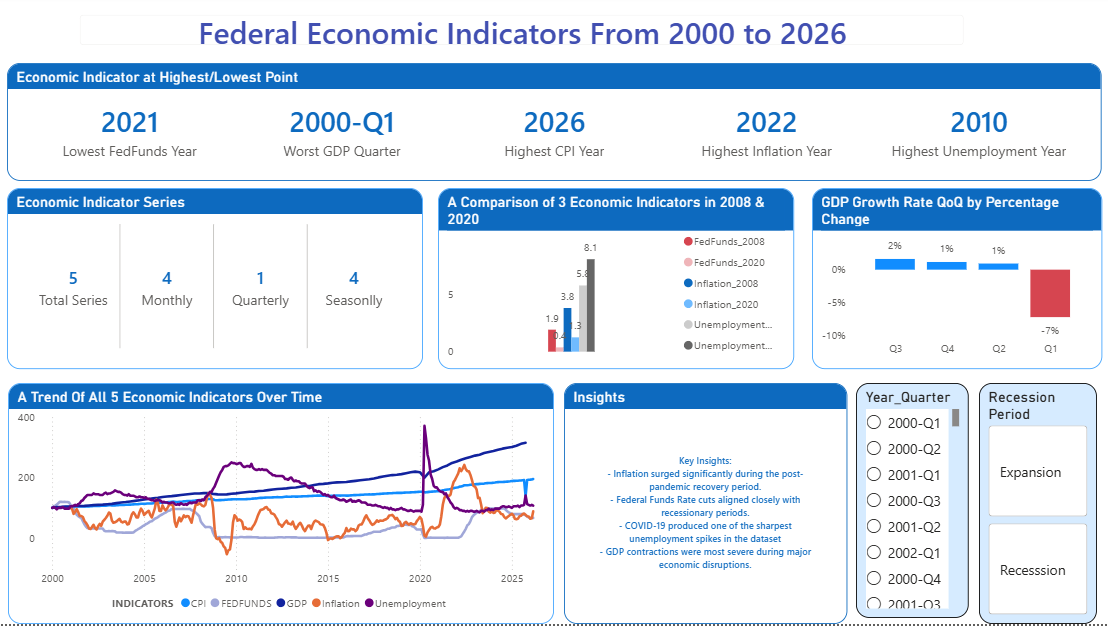

What the dashboard file says about the page in this screenshot:
{"tool":"powerbi","page":{"name":"Deep Dive","canvas":[1280,720],"ordinal":1},"visuals":[{"type":"cardVisual","title":"Economic Indicator at Highest/Lowest  Point","fields":{"Data":["Measure_Table.m_Lowest FedFunds Year","Measure_Table.m_Worst GDP Quarter","Measure_Table.m_Highest CPI Year","Measure_Table.m_Highest Inflation Year","Measure_Table.m_Highest Unemployment Year"]},"box":[9.2,72.7,1263.5,136.2],"z":0},{"type":"cardVisual","title":"Economic Indicator Series","fields":{"Data":["Measure_Table.m_Total Series","Measure_Table.m_Monthly Series","Measure_Table.m_Quarterly Series","Measure_Table.m_Seasonally Adjusted Count"]},"box":[9.2,216.9,480,208.8],"z":1000},{"type":"clusteredColumnChart","title":"A Comparison of 3 Economic Indicators in 2008 & 2020","fields":{"Y":["Measure_Table.m_Average FedFunds_2008","Measure_Table.m_Average FedFunds_2020","Measure_Table.m_Average Inflation_2008","Measure_Table.m_Average Inflation_2020","Measure_Table.m_Average Unemployment_2008","Measure_Table.m_Average Unemployment_2020"]},"box":[506.5,216.9,410.8,208.8],"z":2000},{"type":"cardVisual","fields":{"Data":["Measure_Table.dt_Main"]},"box":[76.1,0,1054.1,69.6],"z":3000},{"type":"lineClusteredColumnComboChart","title":"GDP Growth Rate QoQ by Percentage Change","fields":{"Category":["Calendar.Quarters"],"Y":["Measure_Table.m_GDP Growth Rate QoQ"]},"box":[938.1,216.9,334.6,208.8],"z":4000},{"type":"advancedSlicerVisual","fields":{"Values":["FACT_ECONOMY.Recession Period"]},"box":[1130.8,441.9,136.2,278.1],"z":5000},{"type":"lineChart","title":"A Trend Of All 5 Economic Indicators Over Time","fields":{"Category":["FACT_ECONOMY.Date"],"Series":["FACT_ECONOMY.INDICATORS"],"Y":["Measure_Table.m_Indexed Value_2"]},"box":[10.4,441.9,630,278.1],"z":6000},{"type":"listSlicer","title":"Year_Quarter","fields":{"Values":["Calendar.Year_Quarter"]},"box":[988.8,441.9,130.4,271.2],"z":7000},{"type":"cardVisual","title":"Insights","fields":{"Data":["Measure_Table.m_Insights"]},"box":[651.9,441.9,326.5,278.1],"z":8001}]}

Visuals, with their boxes in screenshot pixels (x1, y1, x2, y2), scaled from the page's 1280x720 canvas onto the 1108x627 screenshot:
"Economic Indicator at Highest/Lowest  Point" cardVisual: 8/63/1102/182
"Economic Indicator Series" cardVisual: 8/189/423/371
"A Comparison of 3 Economic Indicators in 2008 & 2020" clusteredColumnChart: 438/189/794/371
cardVisual - Measure_Table.dt_Main: 66/0/978/61
"GDP Growth Rate QoQ by Percentage Change" lineClusteredColumnComboChart: 812/189/1102/371
advancedSlicerVisual - FACT_ECONOMY.Recession Period: 979/385/1097/626
"A Trend Of All 5 Economic Indicators Over Time" lineChart: 9/385/554/626
"Year_Quarter" listSlicer: 856/385/969/621
"Insights" cardVisual: 564/385/847/626
